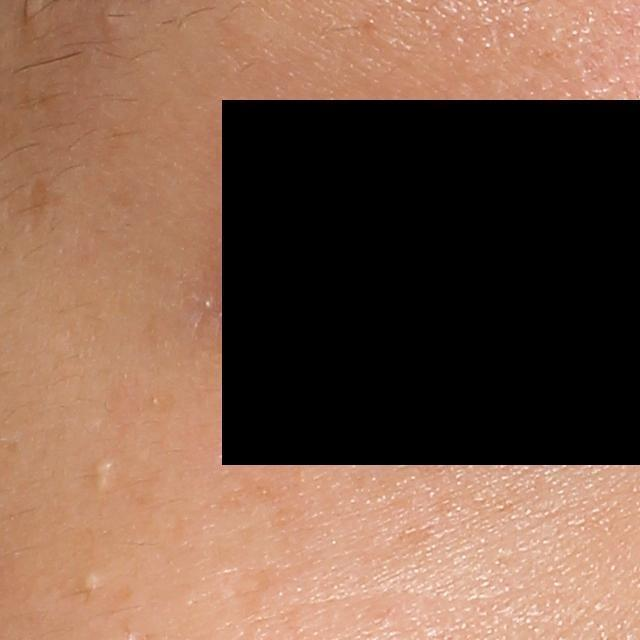comedo: (74, 562, 107, 598), (93, 456, 116, 491)
